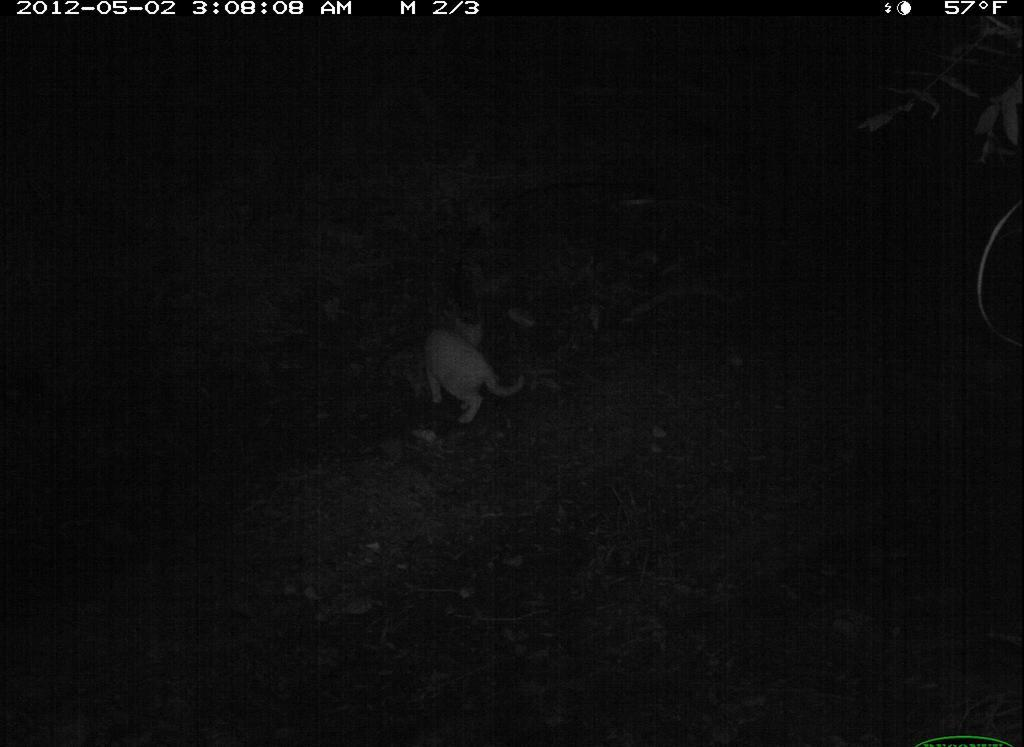cat: (411, 309, 536, 442)
